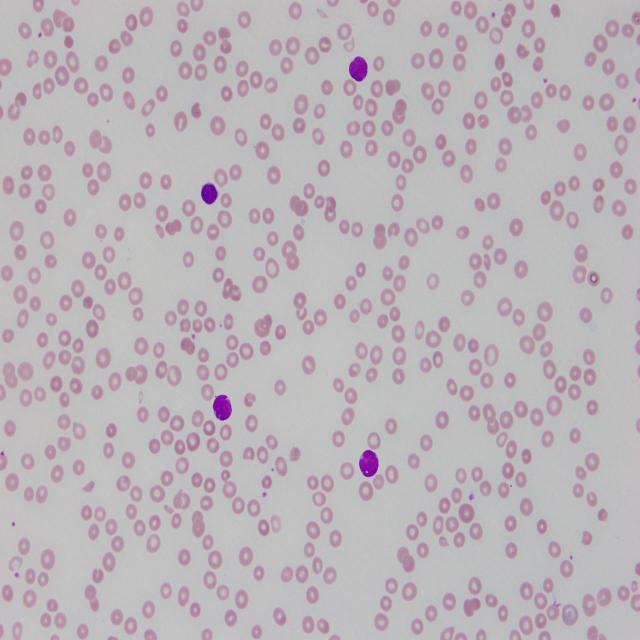cell: (359, 450, 379, 477), (212, 395, 232, 420), (349, 57, 368, 82), (201, 183, 218, 205)
